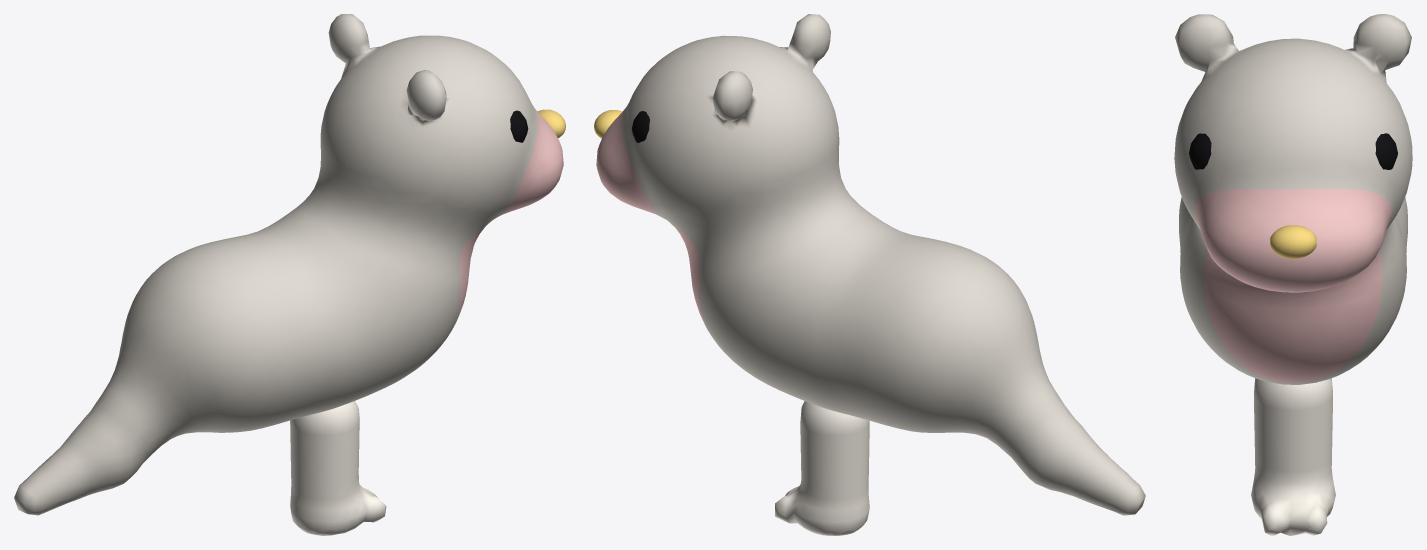
File: otter_baby.glb
The picture shows the model from 3 angles, left to right: view 1: azimuth 30°, elevation 25°; view 2: azimuth 150°, elevation 25°; view 3: azimuth 270°, elevation 25°; orthographic projection. The views are drawn at different scales.
Visible parts, largest first — view 1: body, leg; view 2: body, leg; view 3: body, leg, eye, beak.
Part boxes in pixels (x1,y1,x2,y2): body: (14,14,563,515); leg: (290,401,386,535); body: (596,14,1145,515); leg: (775,401,869,535); body: (1174,14,1412,384); leg: (1251,378,1335,535); eye: (1189,133,1397,169); beak: (1270,225,1316,258).
Size of the model in its own units: 2.42 by 1.98 by 0.7996.
